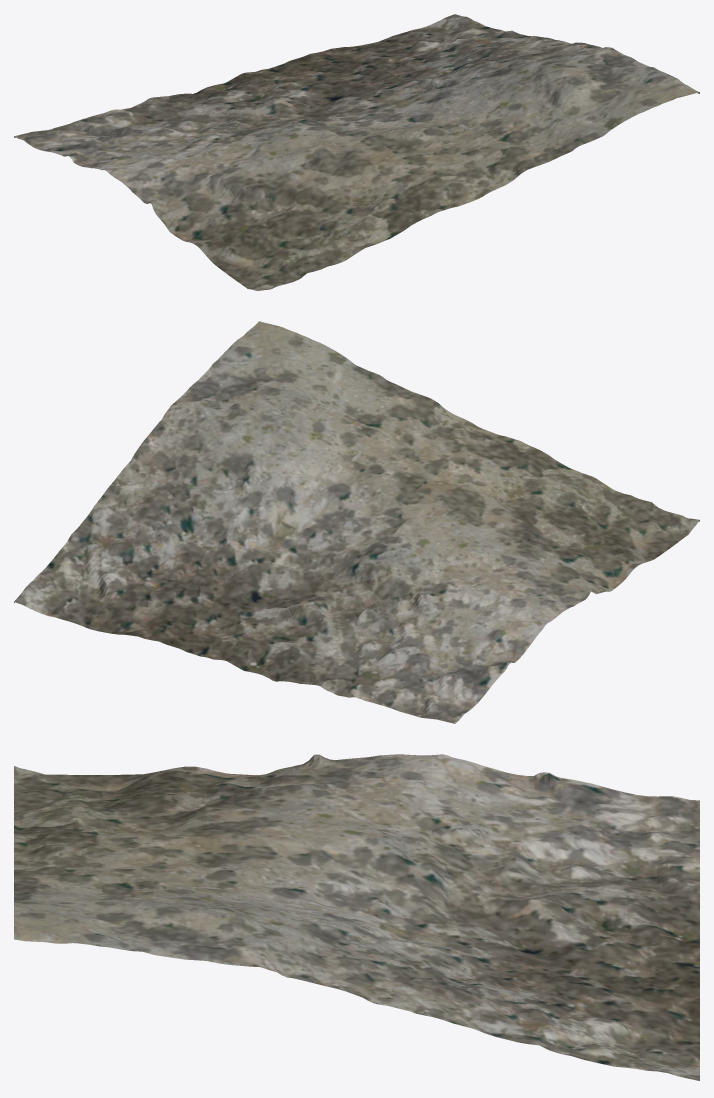
3 renders of one model, top to bottom at view 1: azimuth 30°, elevation 25°; view 2: azimuth 150°, elevation 25°; view 3: azimuth 270°, elevation 25°, orthographic. The views are drawn at different scales.
Size of the model in its own units: 250 by 64.94 by 241.
Materials: 1 (1 with a texture image).
